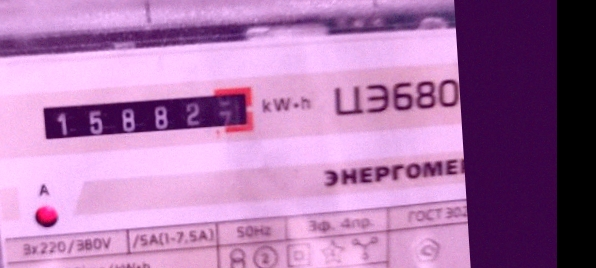1: (55, 110, 70, 136)
2: (184, 100, 201, 125)
5: (87, 107, 104, 134)
7: (218, 106, 233, 126)
8: (120, 106, 137, 133), (152, 103, 169, 129)
screen: (27, 78, 264, 155)
